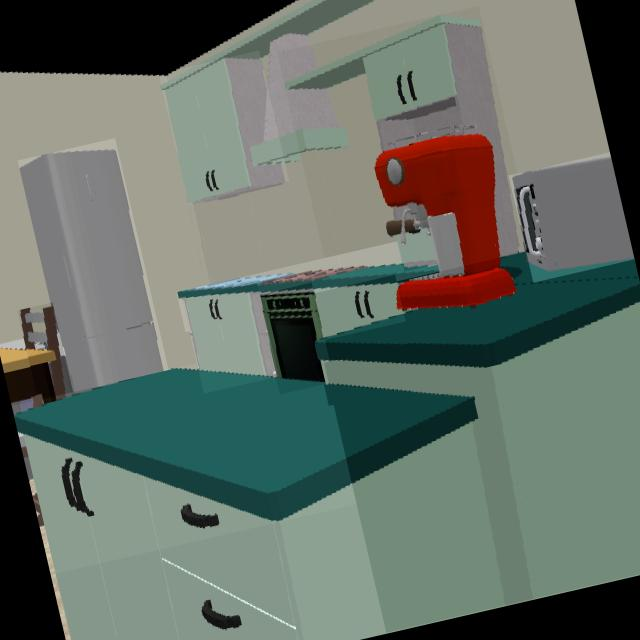cabinet: (18, 423, 506, 640), (325, 299, 640, 604), (285, 15, 519, 256), (162, 58, 285, 204), (184, 293, 276, 376), (313, 284, 400, 339), (398, 231, 437, 269)
chair: (20, 308, 65, 400), (31, 395, 43, 407)
countertop: (14, 369, 479, 523), (314, 252, 640, 369), (177, 263, 439, 299)
fridge: (19, 147, 164, 393)
microwave: (512, 156, 634, 271)
oven: (259, 289, 324, 383)
stove: (264, 267, 366, 284)
table: (0, 348, 57, 405)
